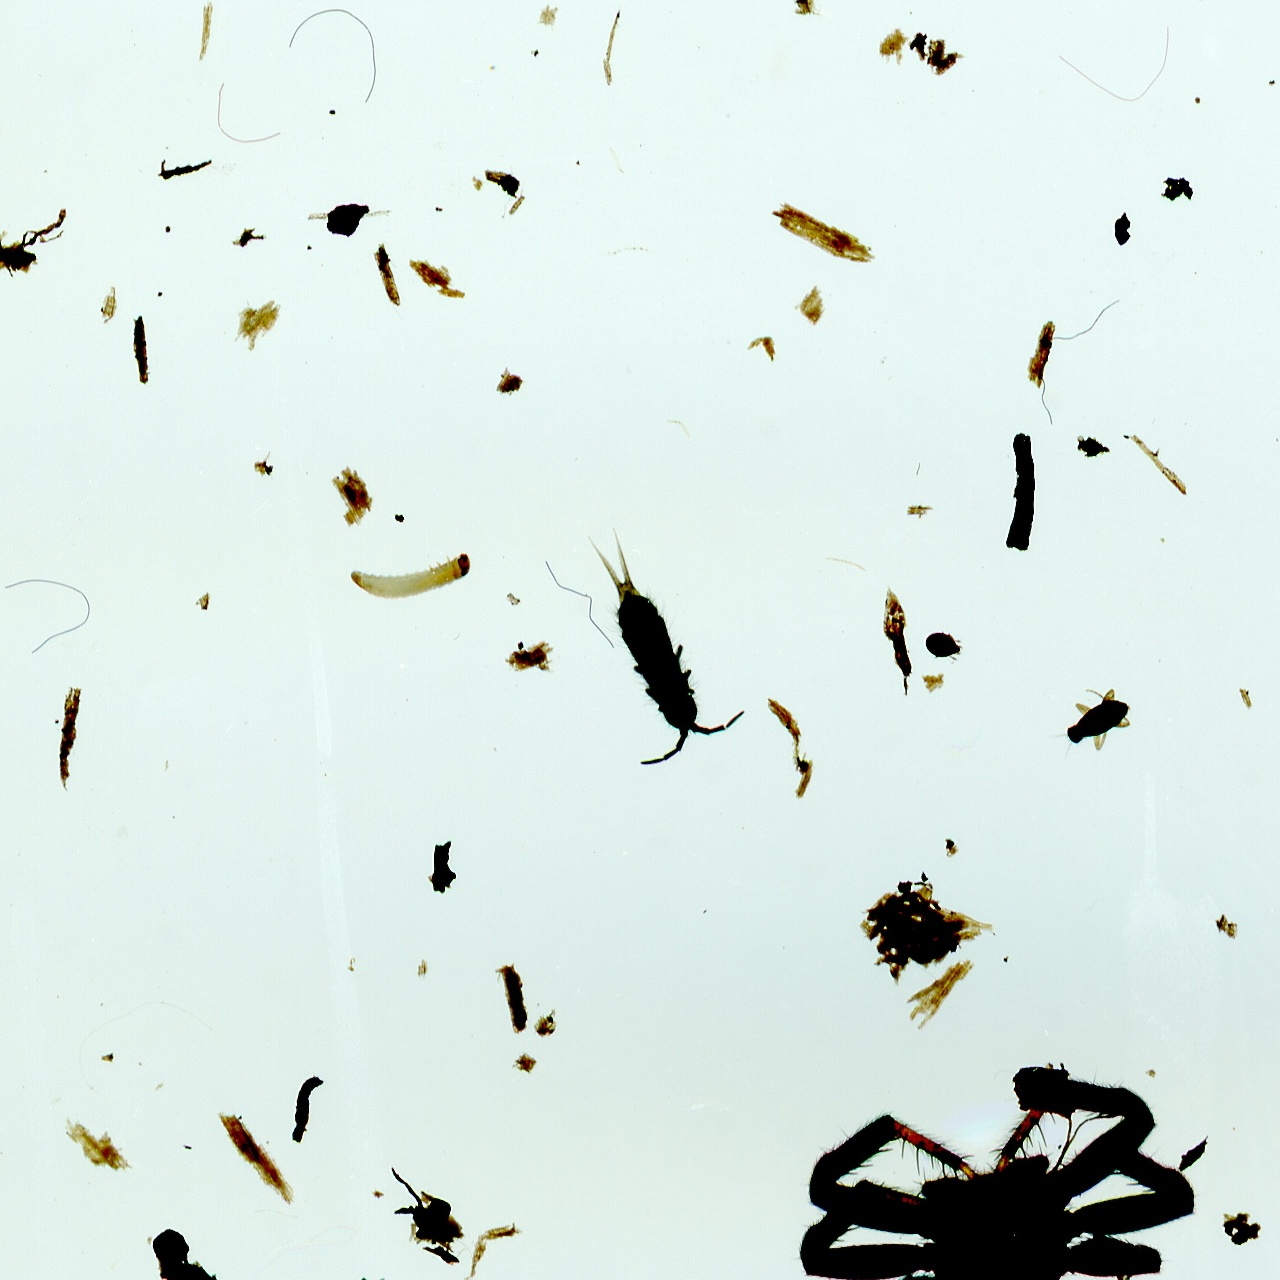arthropod: (753, 1020, 1247, 1280), (535, 503, 754, 778), (1028, 668, 1148, 778), (347, 552, 474, 604), (922, 628, 964, 665), (1119, 696, 1128, 701)
